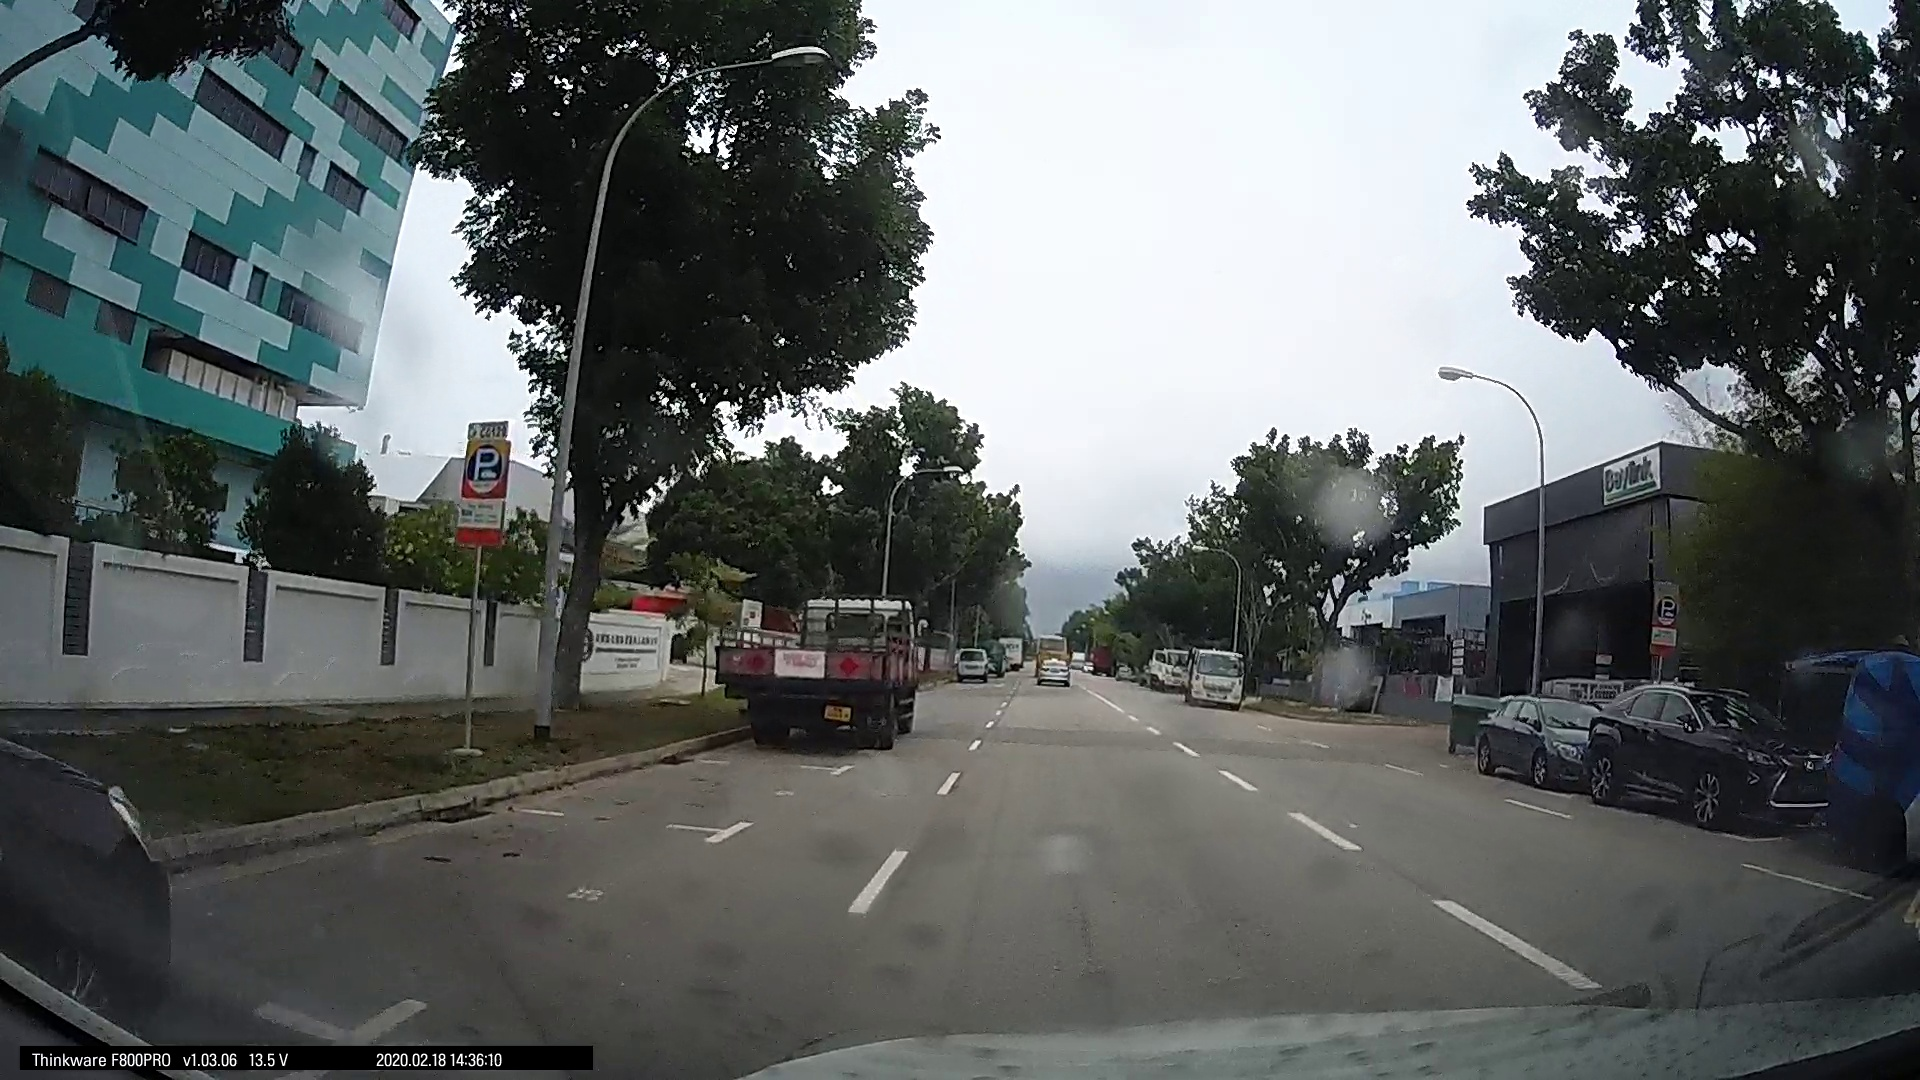Heavy Vehicle: (724, 584, 926, 749)
Light Vehicle: (1573, 676, 1837, 828), (1473, 690, 1586, 790), (1178, 644, 1244, 705), (949, 642, 996, 682), (1029, 644, 1071, 683)
